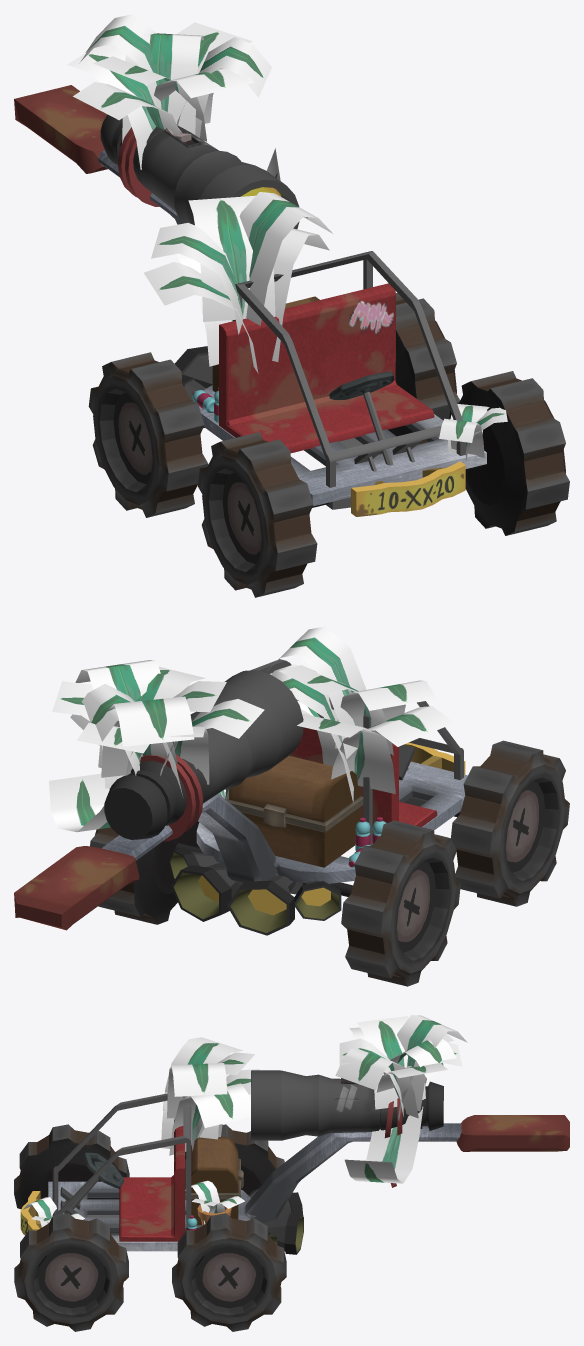
The model's file is vroom.fbx.
3 renders of one model, top to bottom at view 1: azimuth 30°, elevation 25°; view 2: azimuth 150°, elevation 25°; view 3: azimuth 270°, elevation 25°, orthographic. The views are drawn at different scales.
Parts seen in each view (by area): view 1: Wielen6, Stoel1, Wielen7, Spatel2, zAKLAMP, pasted__pasted___pPlane3 (×3), Metalbars2, pasted__pasted___pPlane2 (×2), _pPlane3 (×2), pasted__pasted___pPlane1 (×2), _pPlane1 (×2), _pPlane2 (×2) (+11 smaller); view 2: Wielen7, Spatel2, Wielen6, zAKLAMP, Koffer4, _pPlane3 (×2), pasted__pasted___pPlane1 (×2), pasted__pasted___pPlane3 (×2), pasted__pasted___pPlane2 (×2), Uitlaat4, _pPlane1 (×2), pasted___pPlane6 (+17 smaller); view 3: Wielen6, Wielen7, Spatel2, zAKLAMP, pasted__pasted___pPlane3 (×4), Stoel1, pasted___pPlane6, Koffer4, Metalbars2, _pPlane3 (×2), pasted___pPlane3, pasted__pasted___pPlane1 (×2) (+10 smaller).
Boxes of the visible parts, x1,y1,x2,y2 form: Wielen6: (197,371,569,597); Stoel1: (219,283,434,453); Wielen7: (88,292,459,517); Spatel2: (14,85,486,506); zAKLAMP: (100,114,299,229); pasted__pasted___pPlane3 (×3): (239,192,484,457); Metalbars2: (233,251,466,487); pasted__pasted___pPlane2 (×2): (176,195,275,366); _pPlane3 (×2): (79,14,203,142); pasted__pasted___pPlane1 (×2): (144,223,258,373); _pPlane1 (×2): (73,68,254,135); _pPlane2 (×2): (67,44,206,169); Wielen7: (90,788,460,986); Spatel2: (14,761,467,930); Wielen6: (451,740,569,906); zAKLAMP: (104,670,303,839); Koffer4: (226,755,363,867); _pPlane3 (×2): (70,683,194,796); pasted__pasted___pPlane1 (×2): (331,680,454,778); pasted__pasted___pPlane3 (×2): (267,626,366,802); pasted__pasted___pPlane2 (×2): (279,665,395,794); Uitlaat4: (227,875,295,935); _pPlane1 (×2): (98,667,264,775); pasted___pPlane6: (49,773,110,832); Wielen6: (14,1124,129,1331); Wielen7: (172,1124,286,1331); Spatel2: (48,1115,569,1251); zAKLAMP: (251,1070,443,1140); pasted__pasted___pPlane3 (×4): (23,1063,250,1227); Stoel1: (119,1119,184,1241); pasted___pPlane6: (344,1106,423,1183); Koffer4: (185,1137,243,1225); Metalbars2: (52,1093,191,1230); _pPlane3 (×2): (384,1015,467,1111); pasted___pPlane3: (335,1047,418,1118); pasted__pasted___pPlane1 (×2): (161,1037,242,1148).
Size of the model in its own units: 12.35 by 13.85 by 27.61.
